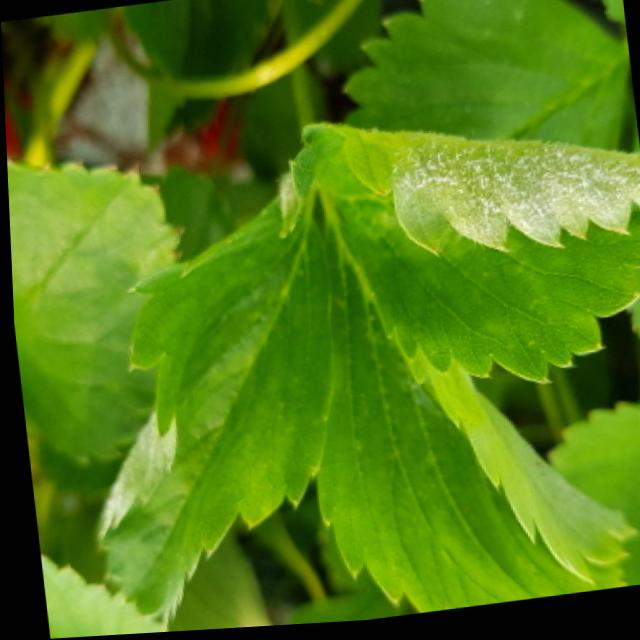Powdery Mildew Leaf: (90, 196, 332, 630), (300, 128, 640, 391)
